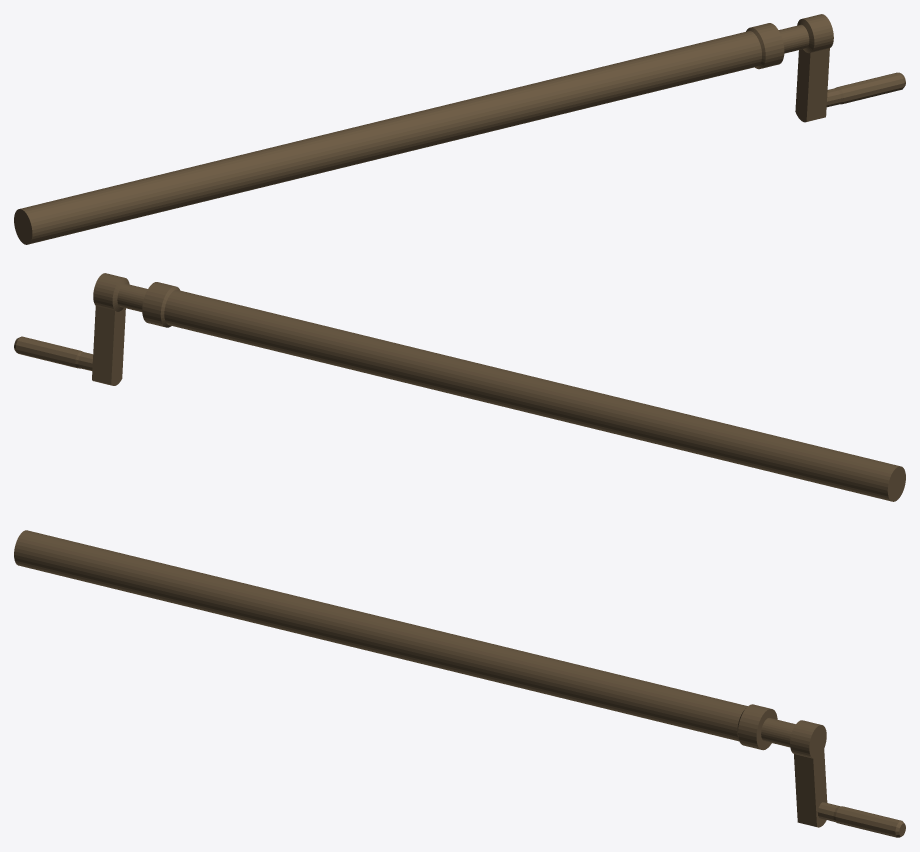
File: StoneWell_part_18.fbx
3 renders of one model, top to bottom at view 1: azimuth 30°, elevation 25°; view 2: azimuth 150°, elevation 25°; view 3: azimuth 330°, elevation 25°, orthographic.
Visible parts, largest first — view 1: Cylinder.001_Material.001_0.001; view 2: Cylinder.001_Material.001_0.001; view 3: Cylinder.001_Material.001_0.001.
Part boxes in pixels (left/top/right/bottom): Cylinder.001_Material.001_0.001: left=14, top=14, right=905, bottom=244; Cylinder.001_Material.001_0.001: left=14, top=273, right=905, bottom=501; Cylinder.001_Material.001_0.001: left=14, top=530, right=905, bottom=837.
Bounding box in the file's own units: 1221 × 142 × 51.26.
